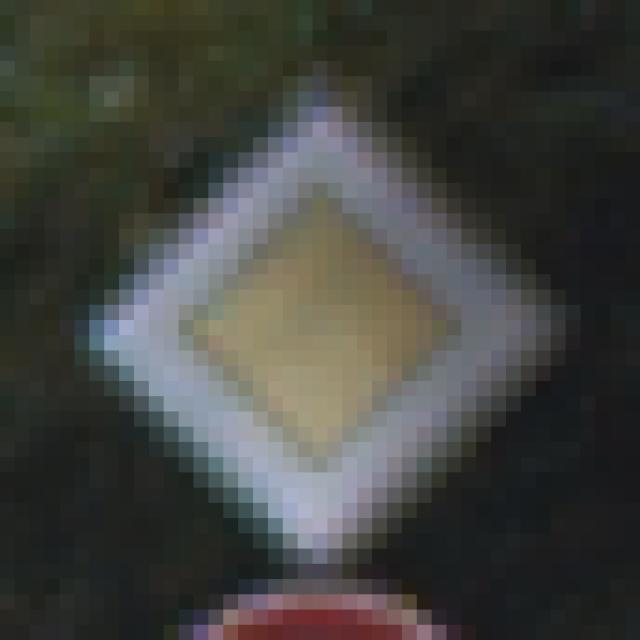Main Road: (76, 77, 567, 565)
